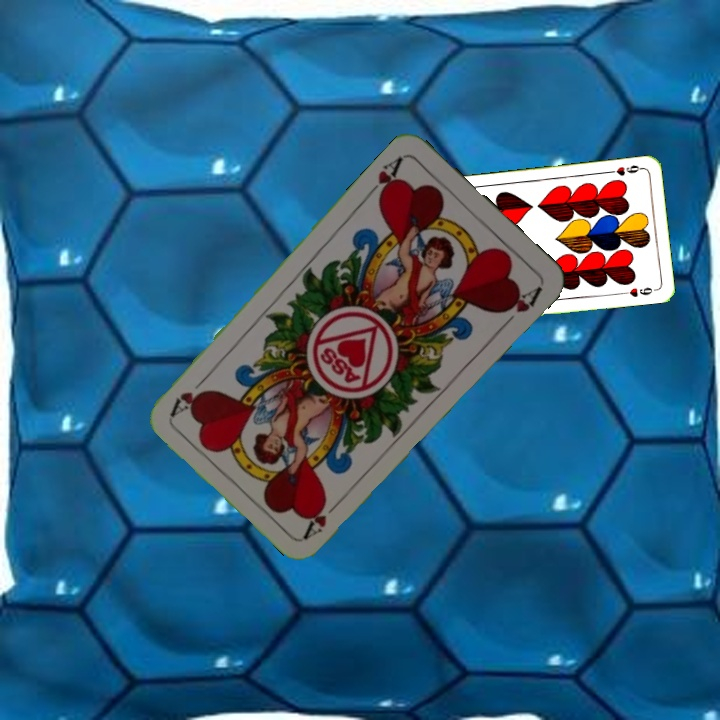H9: (605, 161, 645, 178)
HA: (361, 153, 406, 204), (300, 493, 347, 541)
